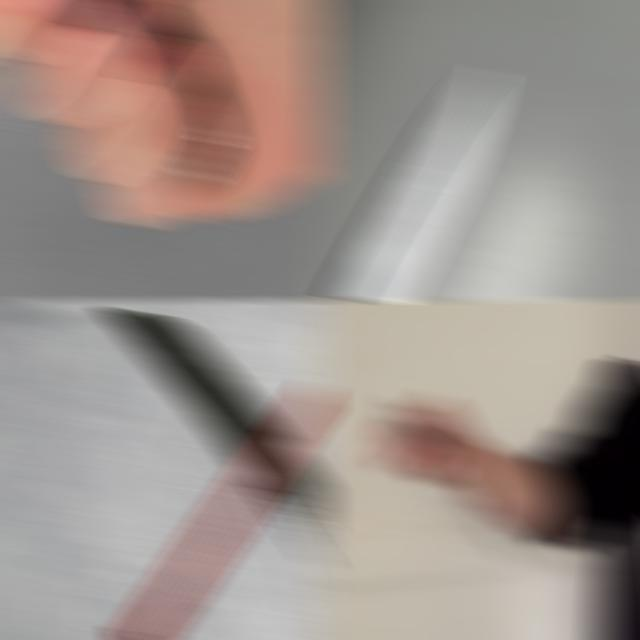Knife: (334, 67, 502, 301)
Knife_Handle: (0, 0, 236, 182), (377, 390, 528, 567)
